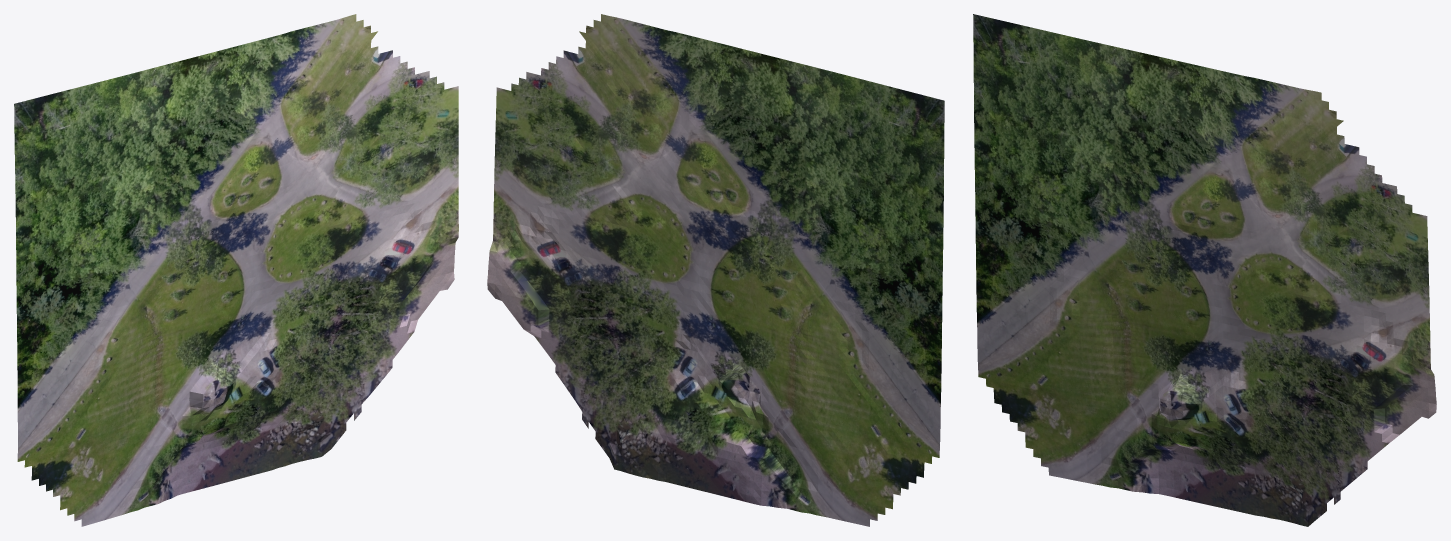
File: odm_textured_model_geo.obj
The picture shows the model from 3 angles, left to right: view 1: azimuth 30°, elevation 25°; view 2: azimuth 150°, elevation 25°; view 3: azimuth 330°, elevation 25°; orthographic projection.
Size of the model in its own units: 100 by 95.29 by 5.81.
1 material, 1 textured.
